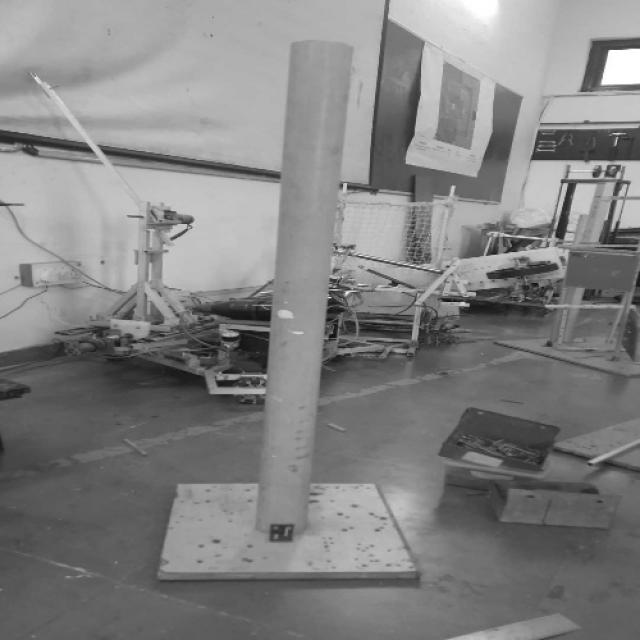poles: (147, 37, 440, 593)
